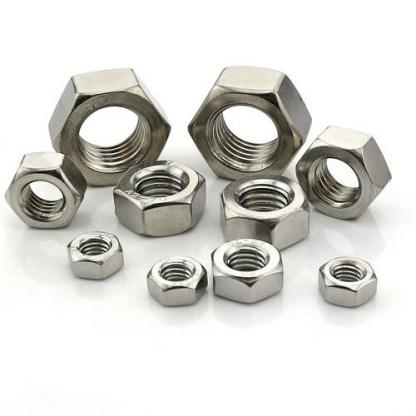FOD: (46, 54, 176, 192), (187, 62, 315, 178), (292, 121, 394, 221), (113, 156, 210, 238), (218, 170, 311, 248), (2, 151, 87, 231), (206, 237, 288, 305), (143, 253, 208, 310), (318, 254, 379, 306), (66, 229, 125, 280)
